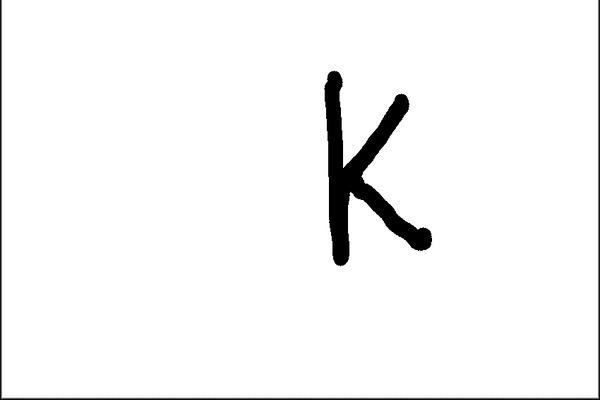K: (314, 64, 444, 269)
